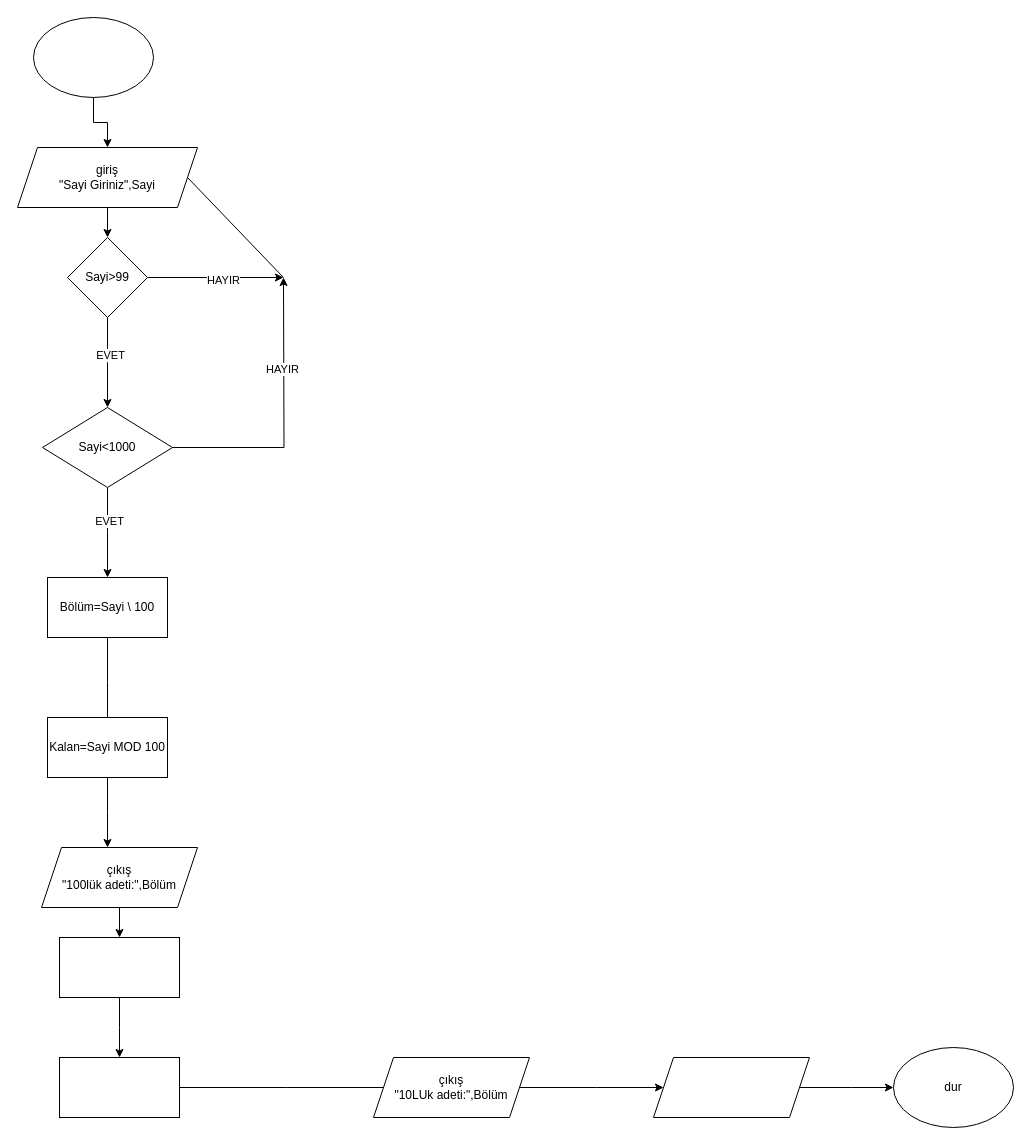
The diagram is 1031 pixels wide and 1145 high, and some of its shapes have lost their labels. The shapes that lost their labels are listed below. From the top down, each one's centre as x and y in pixels, then its label:
(93,57): başla
(119,967): Bölüm=Kalan\10
(119,1087): Kalan=Kalan MOD 10
(731,1087): çıkış "Birlik adeti:",Bölüm
